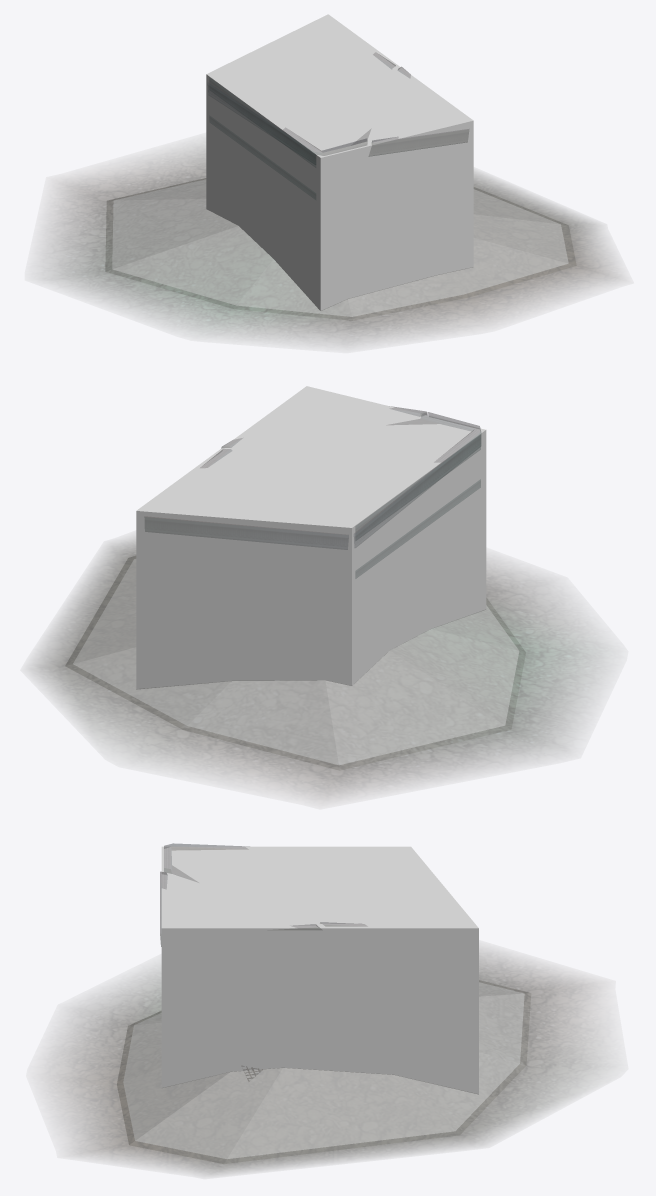
File: source.glb
3 views of the same model, one above another, from view 1: azimuth 30°, elevation 25°; view 2: azimuth 150°, elevation 25°; view 3: azimuth 270°, elevation 25° (orthographic). The views are drawn at different scales.
Visible parts, largest first — view 1: coll_m206_0, state1_obj_bea780, state1_coll_m10a_0, state2_obj_bf52f0, state1_obj_bebd50, obj_bde640; view 2: coll_m206_0, state1_obj_bea780, state1_coll_m10a_0, state2_obj_bf52f0, state1_obj_bebd50, obj_bde640; view 3: coll_m206_0, state1_obj_bea780, state1_coll_m10a_0, state2_obj_bf52f0, state1_obj_bebd50.
Part boxes in pixels (<box>): coll_m206_0: <box>206,14,473,310</box>; state1_obj_bea780: <box>67,157,603,335</box>; state1_coll_m10a_0: <box>105,178,576,320</box>; state2_obj_bf52f0: <box>79,164,594,330</box>; state1_obj_bebd50: <box>207,52,468,164</box>; obj_bde640: <box>209,78,315,199</box>; coll_m206_0: <box>136,386,486,689</box>; state1_obj_bea780: <box>44,544,574,788</box>; state1_coll_m10a_0: <box>65,556,525,770</box>; state2_obj_bf52f0: <box>51,548,559,782</box>; state1_obj_bebd50: <box>144,406,481,549</box>; obj_bde640: <box>355,435,480,578</box>; coll_m206_0: <box>161,846,478,1094</box>; state1_obj_bea780: <box>74,959,574,1170</box>; state1_coll_m10a_0: <box>117,980,531,1163</box>; state2_obj_bf52f0: <box>87,966,559,1168</box>; state1_obj_bebd50: <box>160,843,366,946</box>.
Bounding box in the file's own units: 580 × 185 × 569.
Materials: 19 (19 with a texture image).
